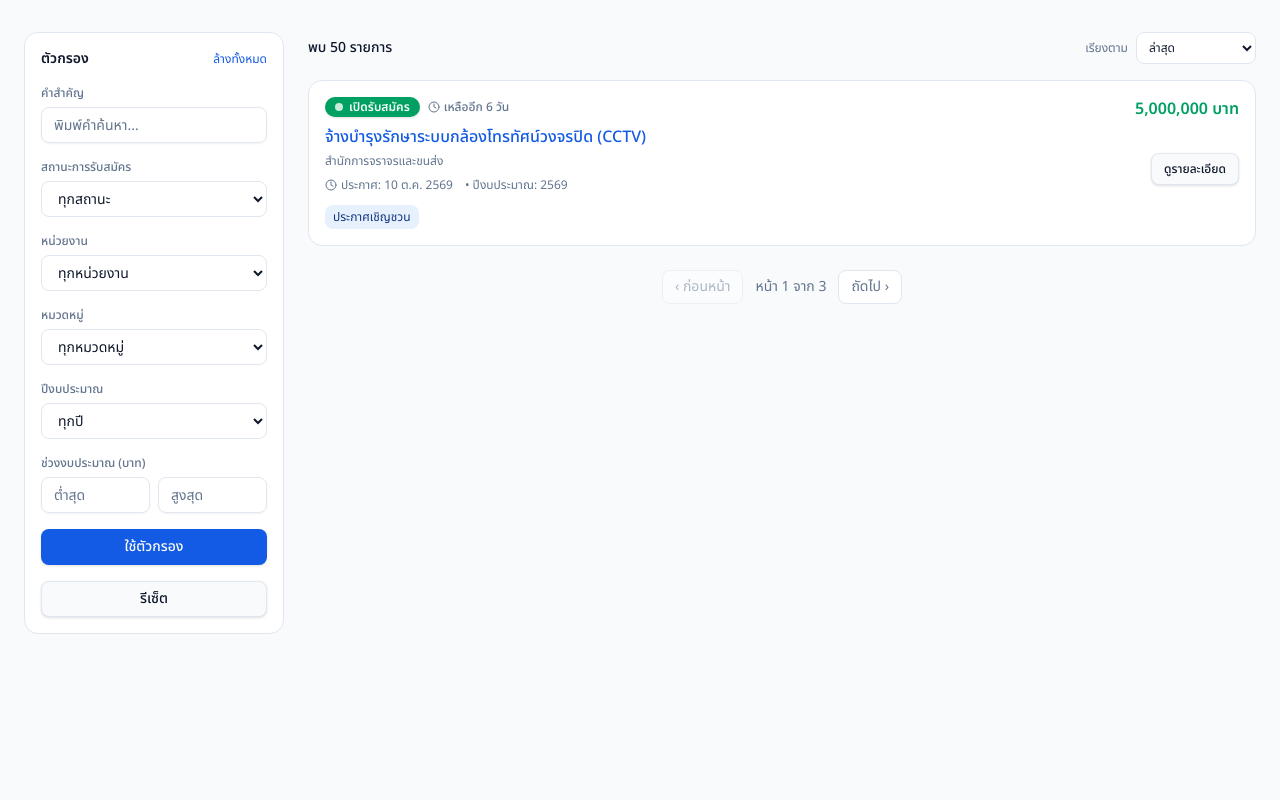
Search page › pagination › moves between pages
The width and height of the screenshot is (1280, 800).
Expected: the text "หน้า 1 จาก 3" is shown, [756,277,826,297]
Expected: the button "‹ ก่อนหน้า" is disabled, [662,270,744,304]
Click the button "ถัดไป ›". click: (870, 287)
box: [838,270,902,304]
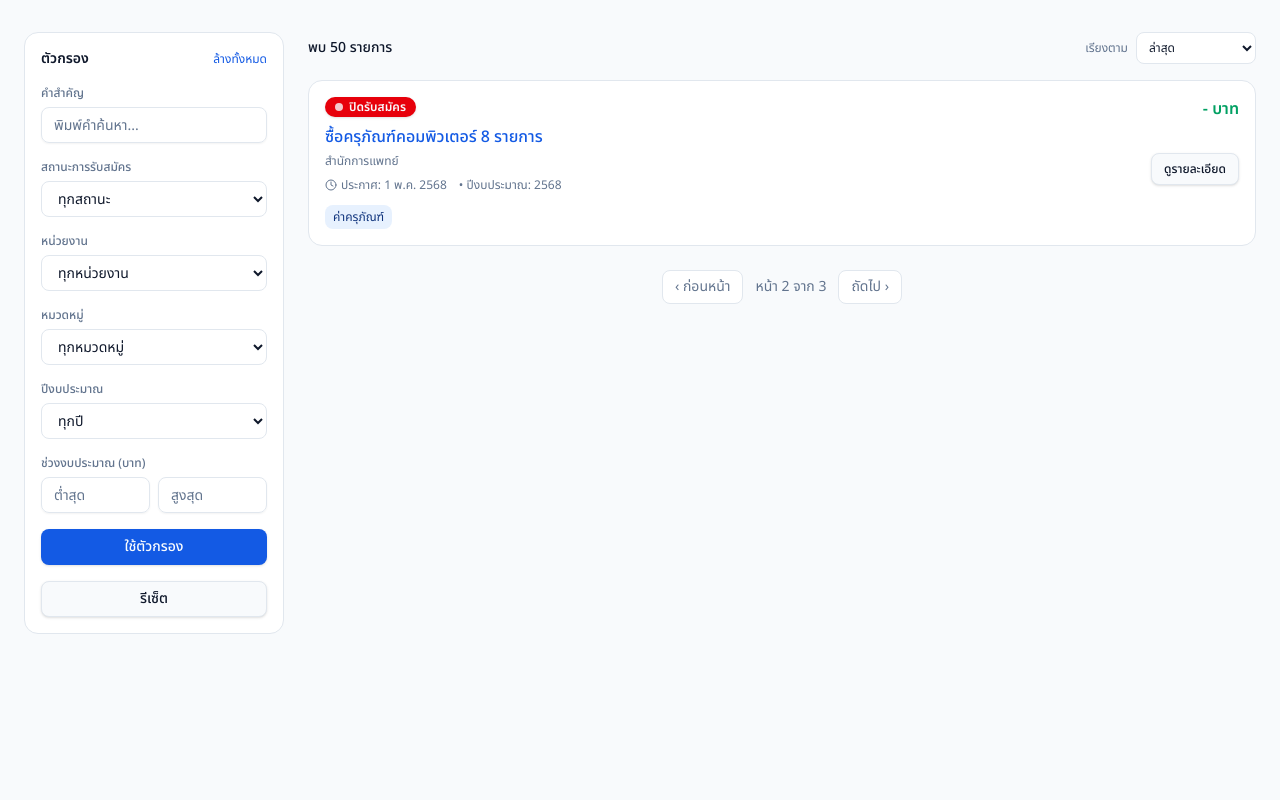
Expected: the text "หน้า 2 จาก 3" is shown, [756,277,826,297]
Expected: the link "ซื้อครุภัณฑ์คอมพิวเตอร์ 8 รายการ" is shown, [325,125,543,149]
